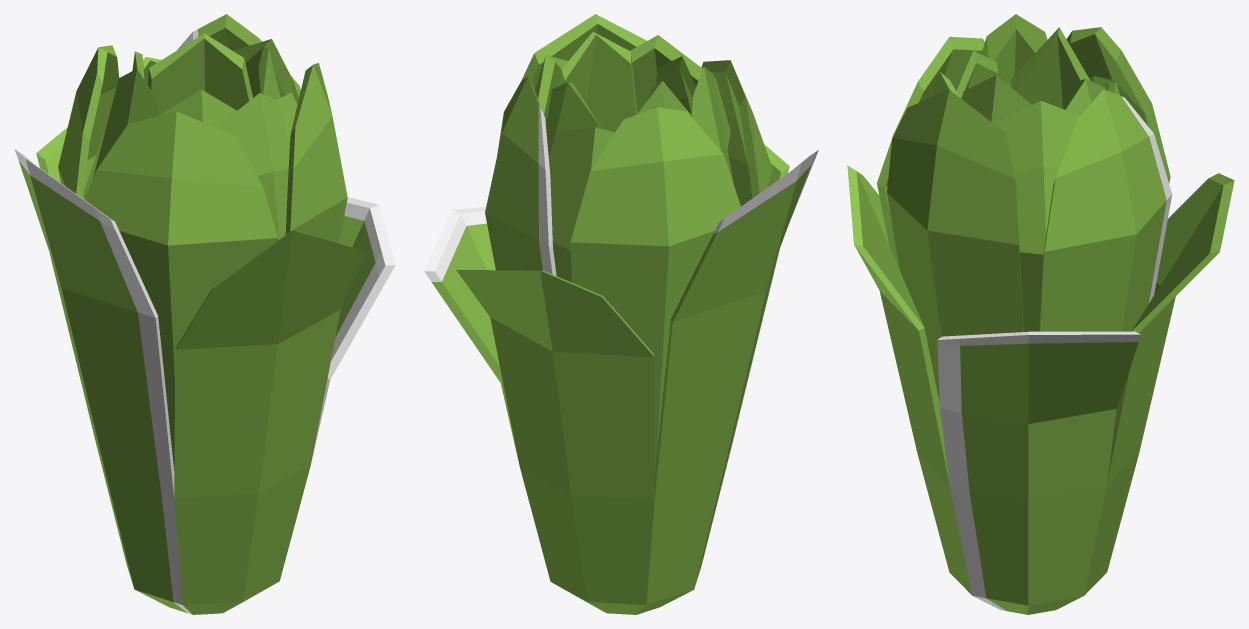
The model's file is lettuce-harvest.glb.
3 views of the same model, side by side, from view 1: azimuth 30°, elevation 25°; view 2: azimuth 150°, elevation 25°; view 3: azimuth 270°, elevation 25° (orthographic).
Visible parts, largest first — view 1: Head_of_Lettuce_Circle.019; view 2: Head_of_Lettuce_Circle.019; view 3: Head_of_Lettuce_Circle.019.
Part boxes in pixels (x1,y1,x2,y2): Head_of_Lettuce_Circle.019: (14, 14, 395, 614); Head_of_Lettuce_Circle.019: (424, 14, 818, 614); Head_of_Lettuce_Circle.019: (847, 14, 1234, 614).
Bounding box in the file's own units: 0.6646 × 1 × 0.6337.
